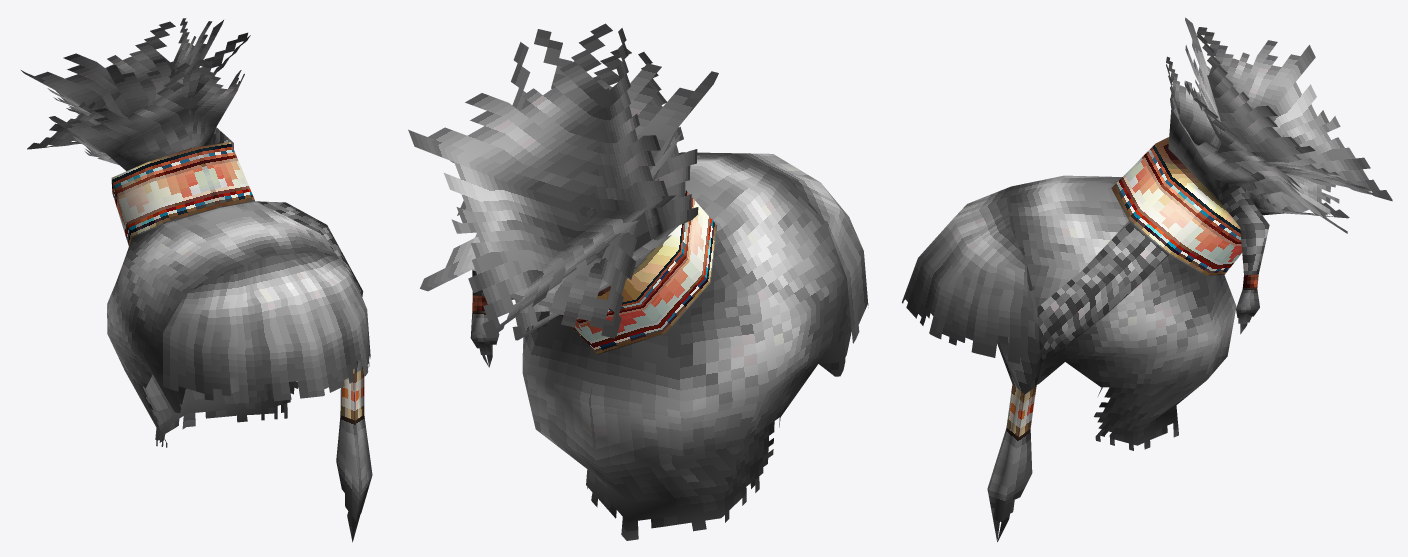
Rendered from f_hair020.obj.
3 views of the same model, side by side, from view 1: azimuth 30°, elevation 25°; view 2: azimuth 150°, elevation 25°; view 3: azimuth 270°, elevation 25° (orthographic). The views are drawn at different scales.
Visible parts, largest first — view 1: editpl_f-0000-1886, editpl_f-0000-1887; view 2: editpl_f-0000-1886, editpl_f-0000-1887; view 3: editpl_f-0000-1886, editpl_f-0000-1887.
Boxes of the visible parts, left/top/right/bottom form: editpl_f-0000-1886: left=21, top=18, right=372, bottom=542; editpl_f-0000-1887: left=111, top=142, right=364, bottom=420; editpl_f-0000-1886: left=408, top=23, right=868, bottom=540; editpl_f-0000-1887: left=472, top=190, right=717, bottom=354; editpl_f-0000-1886: left=902, top=17, right=1392, bottom=541; editpl_f-0000-1887: left=1006, top=137, right=1258, bottom=437.
Bounding box in the file's own units: 20.27 × 41.79 × 39.01.
